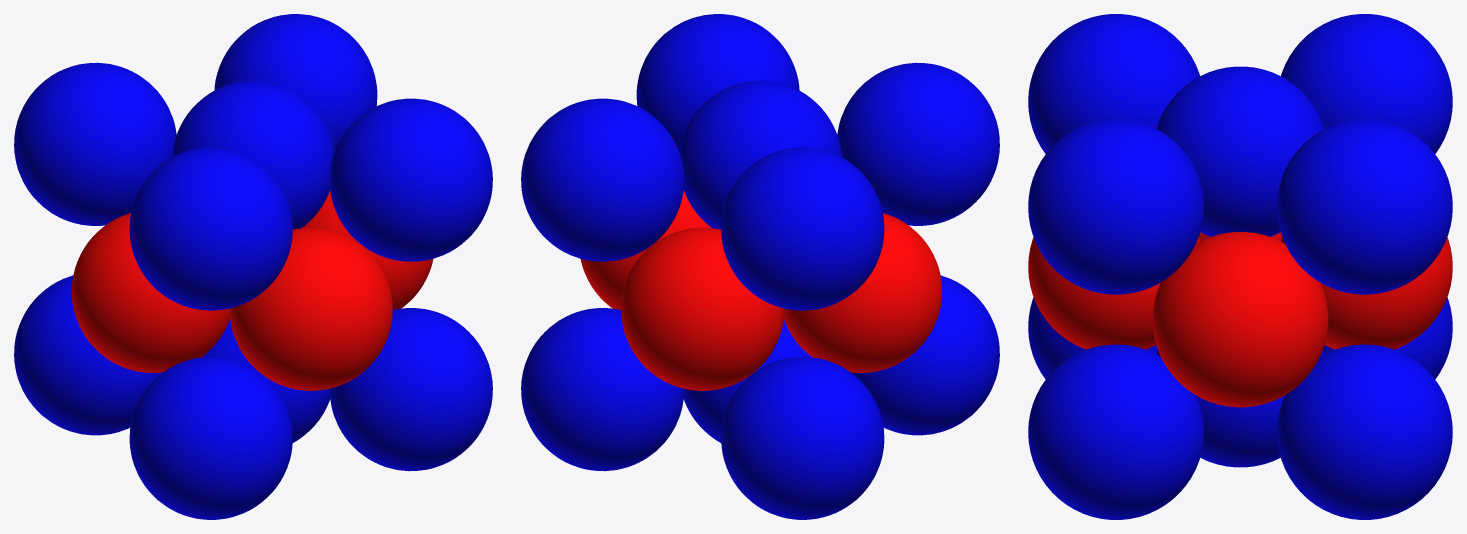
File: fcc.gltf
The picture shows the model from 3 angles, left to right: view 1: azimuth 30°, elevation 25°; view 2: azimuth 150°, elevation 25°; view 3: azimuth 270°, elevation 25°; orthographic projection. The views are drawn at different scales.
Visible parts, largest first — view 1: Part 14, Part 12, Part 3, Part 11, Part 9, Part 5, Part 6, Part 10, Part 2, Part 13, Part 8, Part 1; view 2: Part 13, Part 11, Part 2, Part 12, Part 7, Part 4, Part 6, Part 10, Part 3, Part 14, Part 8, Part 1; view 3: Part 13, Part 14, Part 4, Part 5, Part 8, Part 10, Part 11, Part 12, Part 9, Part 7, Part 1, Part 2 (+1 smaller).
Boxes of the visible parts, bbox=[...] form: Part 14: bbox=[329, 98, 492, 261]; Part 12: bbox=[129, 147, 292, 310]; Part 3: bbox=[129, 356, 292, 519]; Part 11: bbox=[14, 62, 176, 225]; Part 9: bbox=[229, 227, 392, 390]; Part 5: bbox=[329, 308, 492, 471]; Part 6: bbox=[71, 213, 229, 372]; Part 10: bbox=[172, 80, 334, 229]; Part 2: bbox=[14, 275, 162, 435]; Part 13: bbox=[214, 14, 377, 151]; Part 8: bbox=[302, 190, 433, 309]; Part 1: bbox=[202, 319, 329, 442]; Part 13: bbox=[521, 98, 684, 261]; Part 11: bbox=[721, 147, 884, 310]; Part 2: bbox=[721, 356, 884, 519]; Part 12: bbox=[837, 62, 999, 225]; Part 7: bbox=[621, 227, 784, 390]; Part 4: bbox=[521, 308, 684, 471]; Part 6: bbox=[784, 213, 942, 372]; Part 10: bbox=[679, 80, 841, 229]; Part 3: bbox=[851, 275, 999, 435]; Part 14: bbox=[636, 14, 799, 151]; Part 8: bbox=[580, 190, 711, 309]; Part 1: bbox=[684, 319, 811, 442]; Part 13: bbox=[1277, 119, 1452, 294]; Part 14: bbox=[1028, 119, 1203, 294]; Part 4: bbox=[1277, 344, 1452, 519]; Part 5: bbox=[1028, 344, 1203, 519]; Part 8: bbox=[1152, 232, 1328, 407]; Part 10: bbox=[1156, 66, 1324, 236]; Part 11: bbox=[1281, 14, 1452, 153]; Part 12: bbox=[1028, 14, 1199, 153]; Part 9: bbox=[1028, 237, 1199, 349]; Part 7: bbox=[1281, 237, 1452, 349]; Part 1: bbox=[1156, 350, 1324, 467]; Part 2: bbox=[1323, 297, 1452, 379].
Size of the model in its own units: 0.0724 by 0.0723 by 0.0724.
